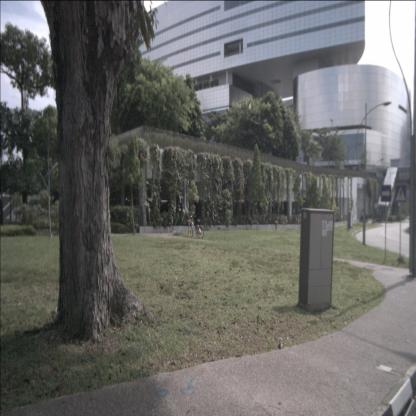vehicle-bicycle: (188, 215, 204, 240)
